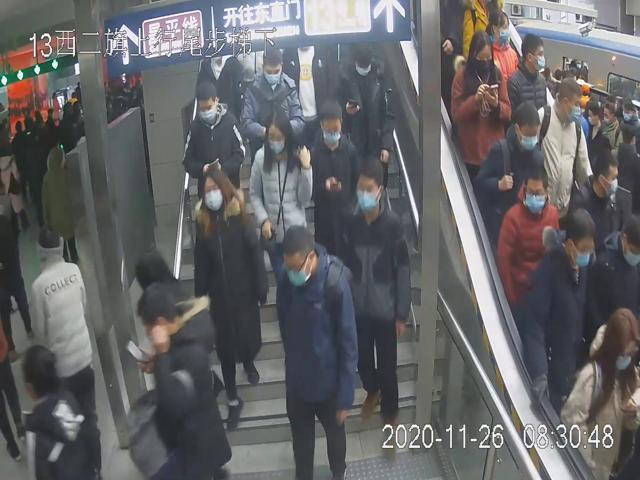person: (274, 226, 360, 479), (340, 154, 411, 458), (193, 162, 270, 434), (247, 105, 313, 277), (472, 100, 549, 238), (448, 28, 510, 184), (496, 164, 563, 306), (333, 42, 395, 193), (306, 98, 361, 266), (182, 76, 245, 198), (242, 48, 308, 148)
